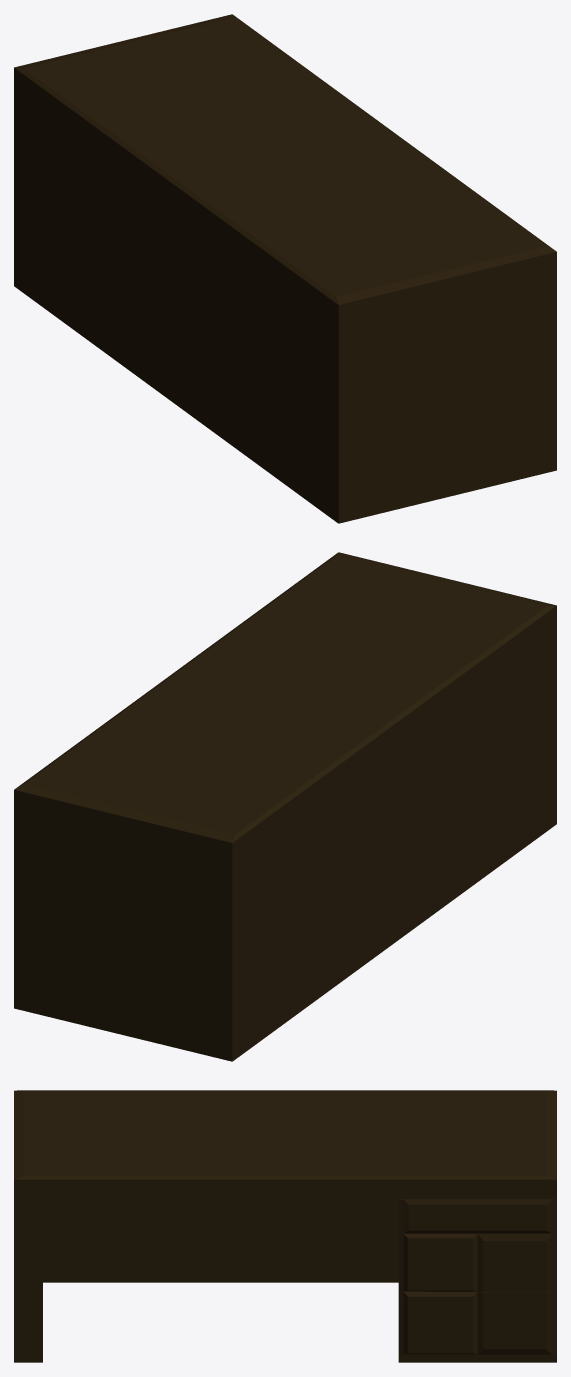
The model's file is M_Table02.fbx.
3 renders of one model, top to bottom at view 1: azimuth 30°, elevation 25°; view 2: azimuth 150°, elevation 25°; view 3: azimuth 270°, elevation 25°, orthographic. The views are drawn at different scales.
Parts seen in each view (by area): view 1: Cube.013; view 2: Cube.013; view 3: Cube.013.
Part boxes in pixels (<box>): Cube.013: <box>14,14,556,523</box>; Cube.013: <box>14,552,556,1061</box>; Cube.013: <box>14,1090,556,1362</box>.
Bounding box in the file's own units: 71.21 × 67.59 × 180.
